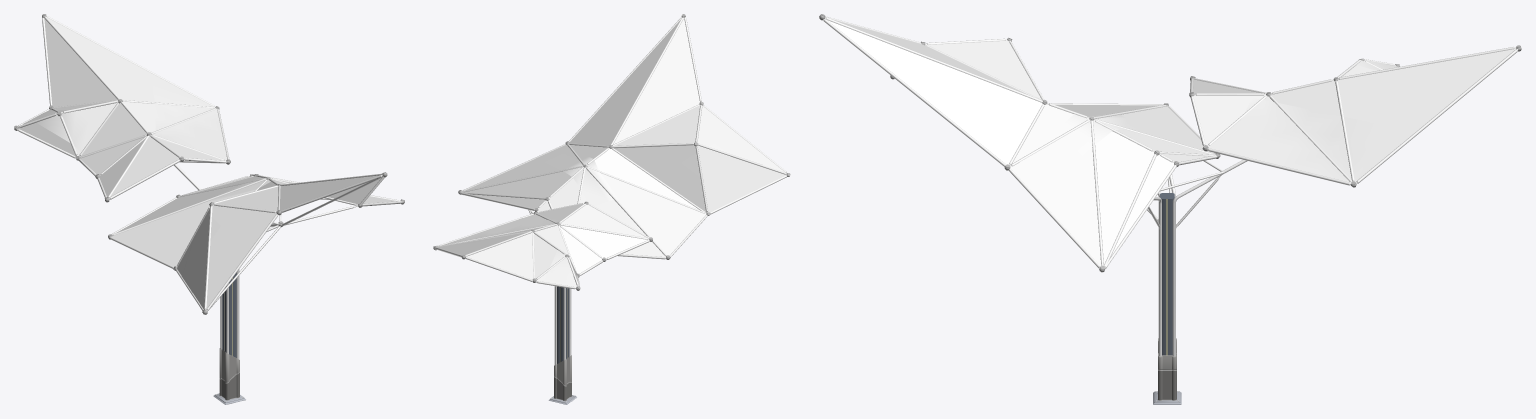
3 renders of one model, left to right at view 1: azimuth 30°, elevation 25°; view 2: azimuth 150°, elevation 25°; view 3: azimuth 270°, elevation 25°, orthographic. The views are drawn at different scales.
Visible parts, largest first — view 1: SM_Building_Generic_Pillar_256x1024_01; view 2: SM_Building_Generic_Pillar_256x1024_01; view 3: SM_Building_Generic_Pillar_256x1024_01.
Part boxes in pixels (left/top/right/bottom): SM_Building_Generic_Pillar_256x1024_01: left=14, top=14, right=404, bottom=404; SM_Building_Generic_Pillar_256x1024_01: left=433, top=14, right=790, bottom=404; SM_Building_Generic_Pillar_256x1024_01: left=819, top=14, right=1521, bottom=404.
Size of the model in its own units: 908 by 511 by 555.
